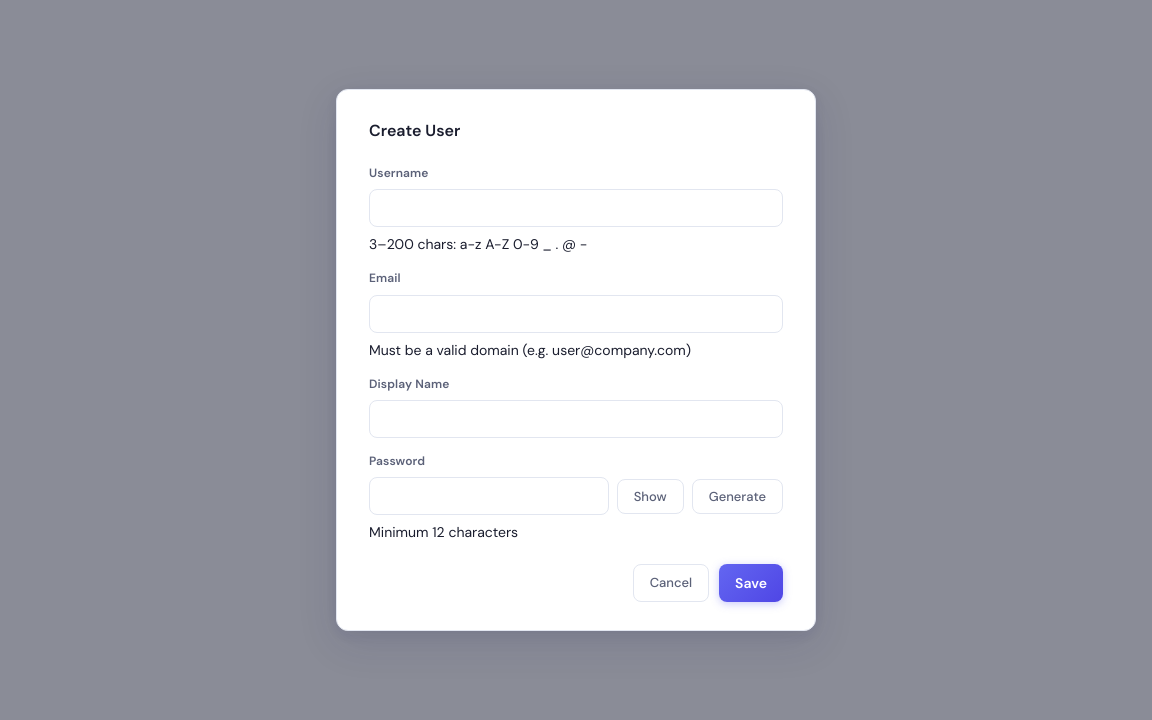
UserFormModal › 409 shows inline error, modal stays open
This screenshot has width=1152, height=720.
Type "newuser" into the field below "Username" at (576, 208), box 369,189 -> 783,227
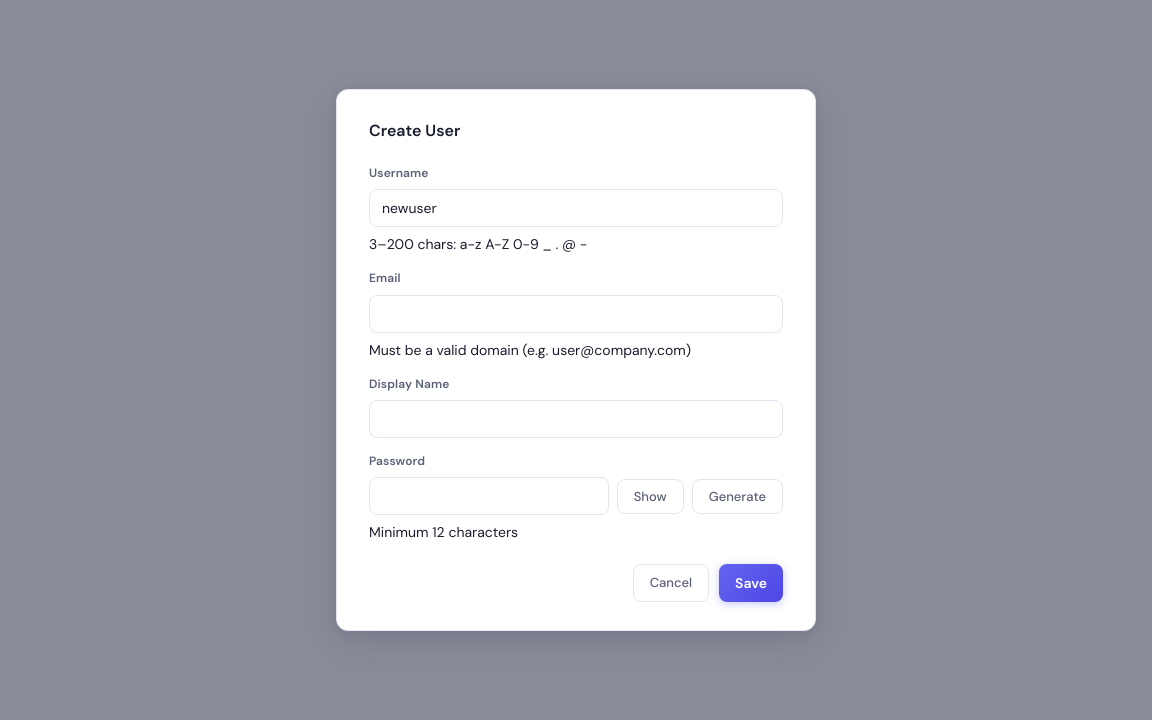
Type "Str0ngPassword!" into the password field at (489, 496), box 369,477 -> 609,515
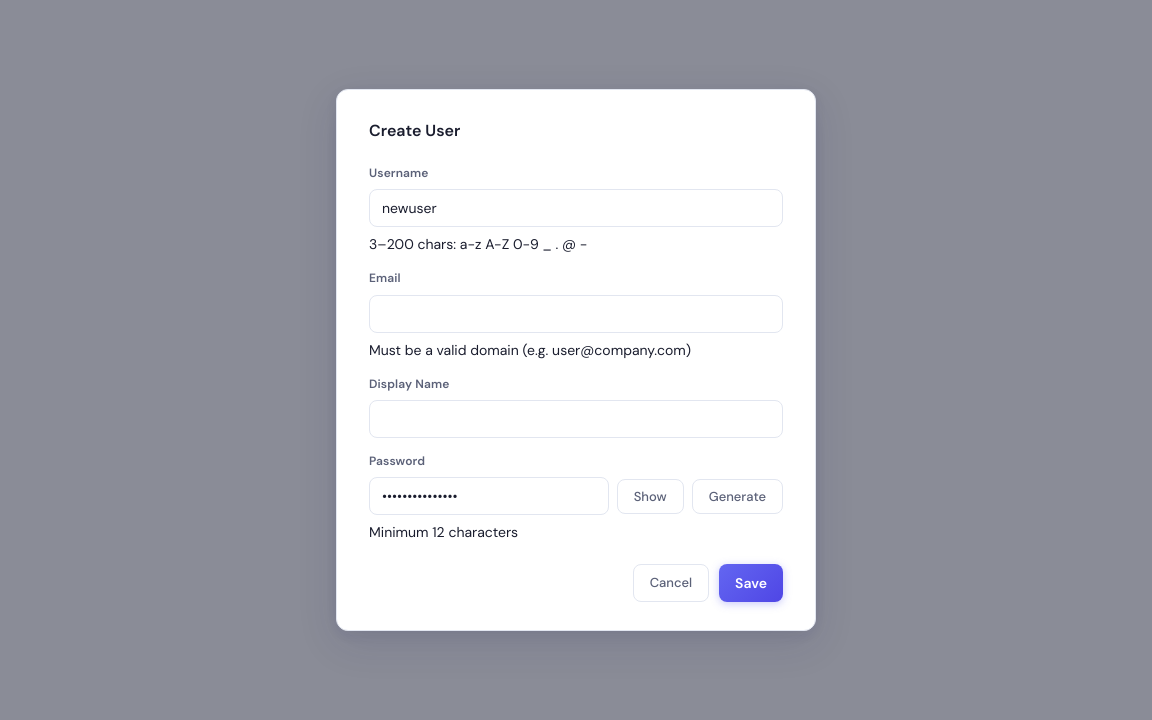
Submit the form, box 369,164 -> 783,602
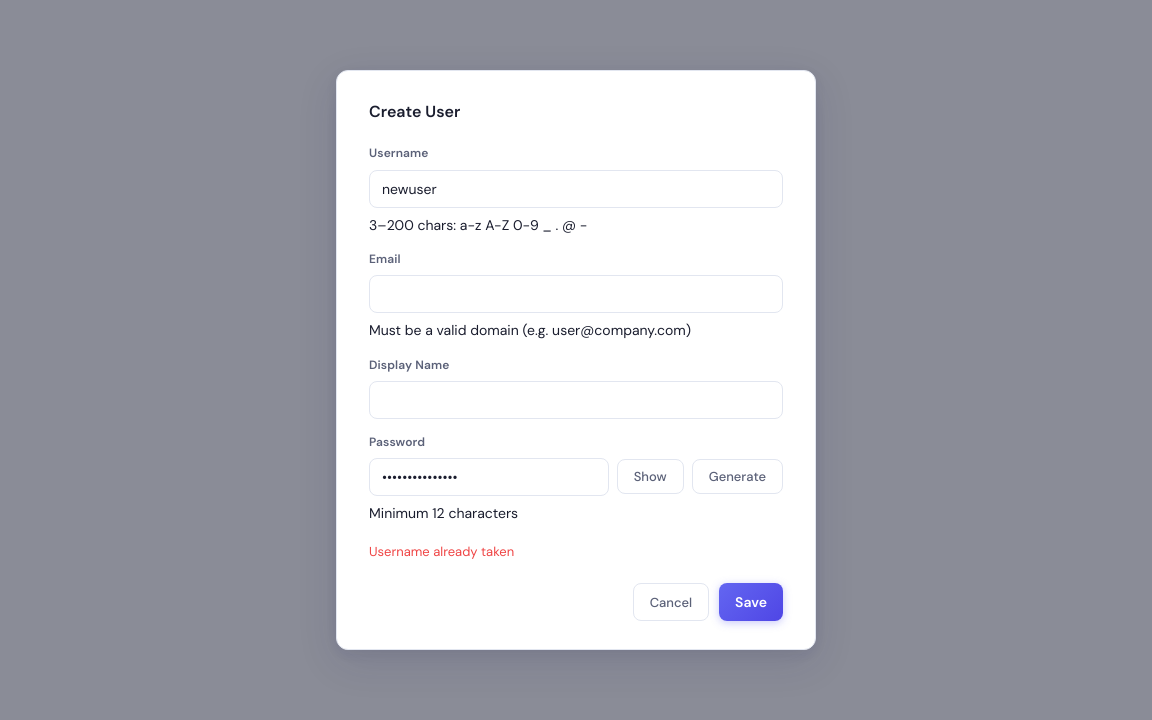
Expected: the element with class "upload-modal" is shown, 336,70 -> 816,650
Expected: the text "Username already taken" is shown, 369,543 -> 514,560
